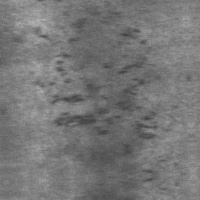rolled-in_scale: (37, 15, 111, 136), (99, 25, 160, 146)
